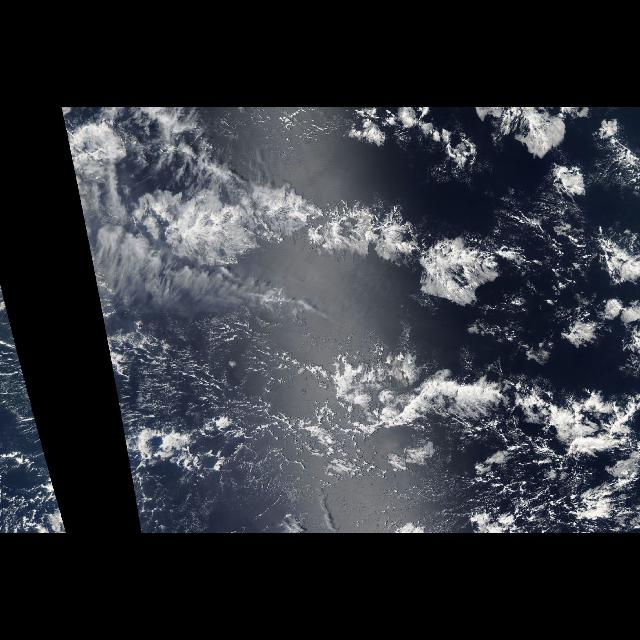Fish: (260, 354, 640, 526), (158, 176, 536, 334)
Flower: (75, 107, 640, 330)
Gravel: (466, 428, 610, 534)
